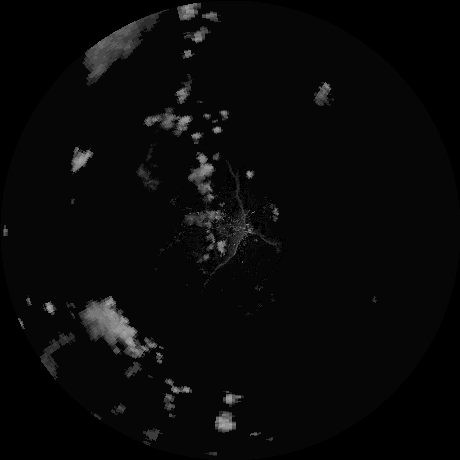frontgust: (216, 176, 248, 272)
